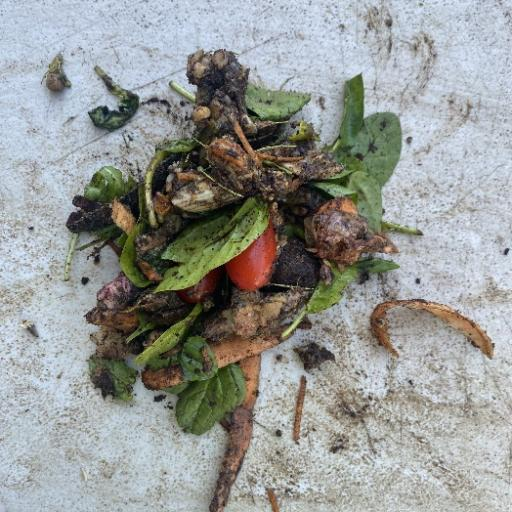Waste: (55, 46, 493, 509), (368, 297, 496, 362)
